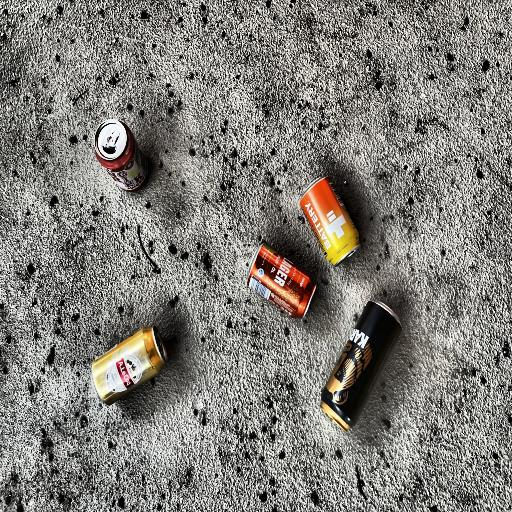A_LeCoq: (81, 324, 176, 416)
coop_larger: (236, 237, 322, 326)
karhu: (314, 296, 414, 430)
koff: (88, 118, 155, 198)
